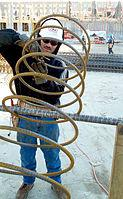helmet: (39, 18, 67, 45)
